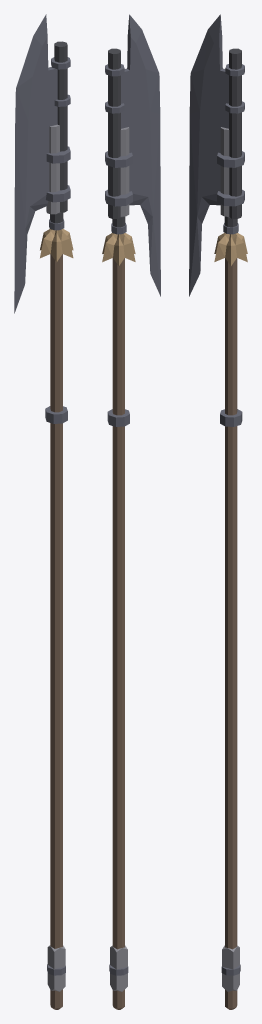
File: Lanca_A21.fbx
3 renders of one model, left to right at view 1: azimuth 30°, elevation 25°; view 2: azimuth 210°, elevation 25°; view 3: azimuth 330°, elevation 25°, orthographic.
Visible parts, largest first — view 1: polearm_21; view 2: polearm_21; view 3: polearm_21.
Boxes of the visible parts, x1,y1,x2,y2 form: polearm_21: (14,14,73,1009); polearm_21: (102,14,160,1009); polearm_21: (189,14,247,1009).
Bounding box in the file's own units: 12.86 × 207 × 6.37.
